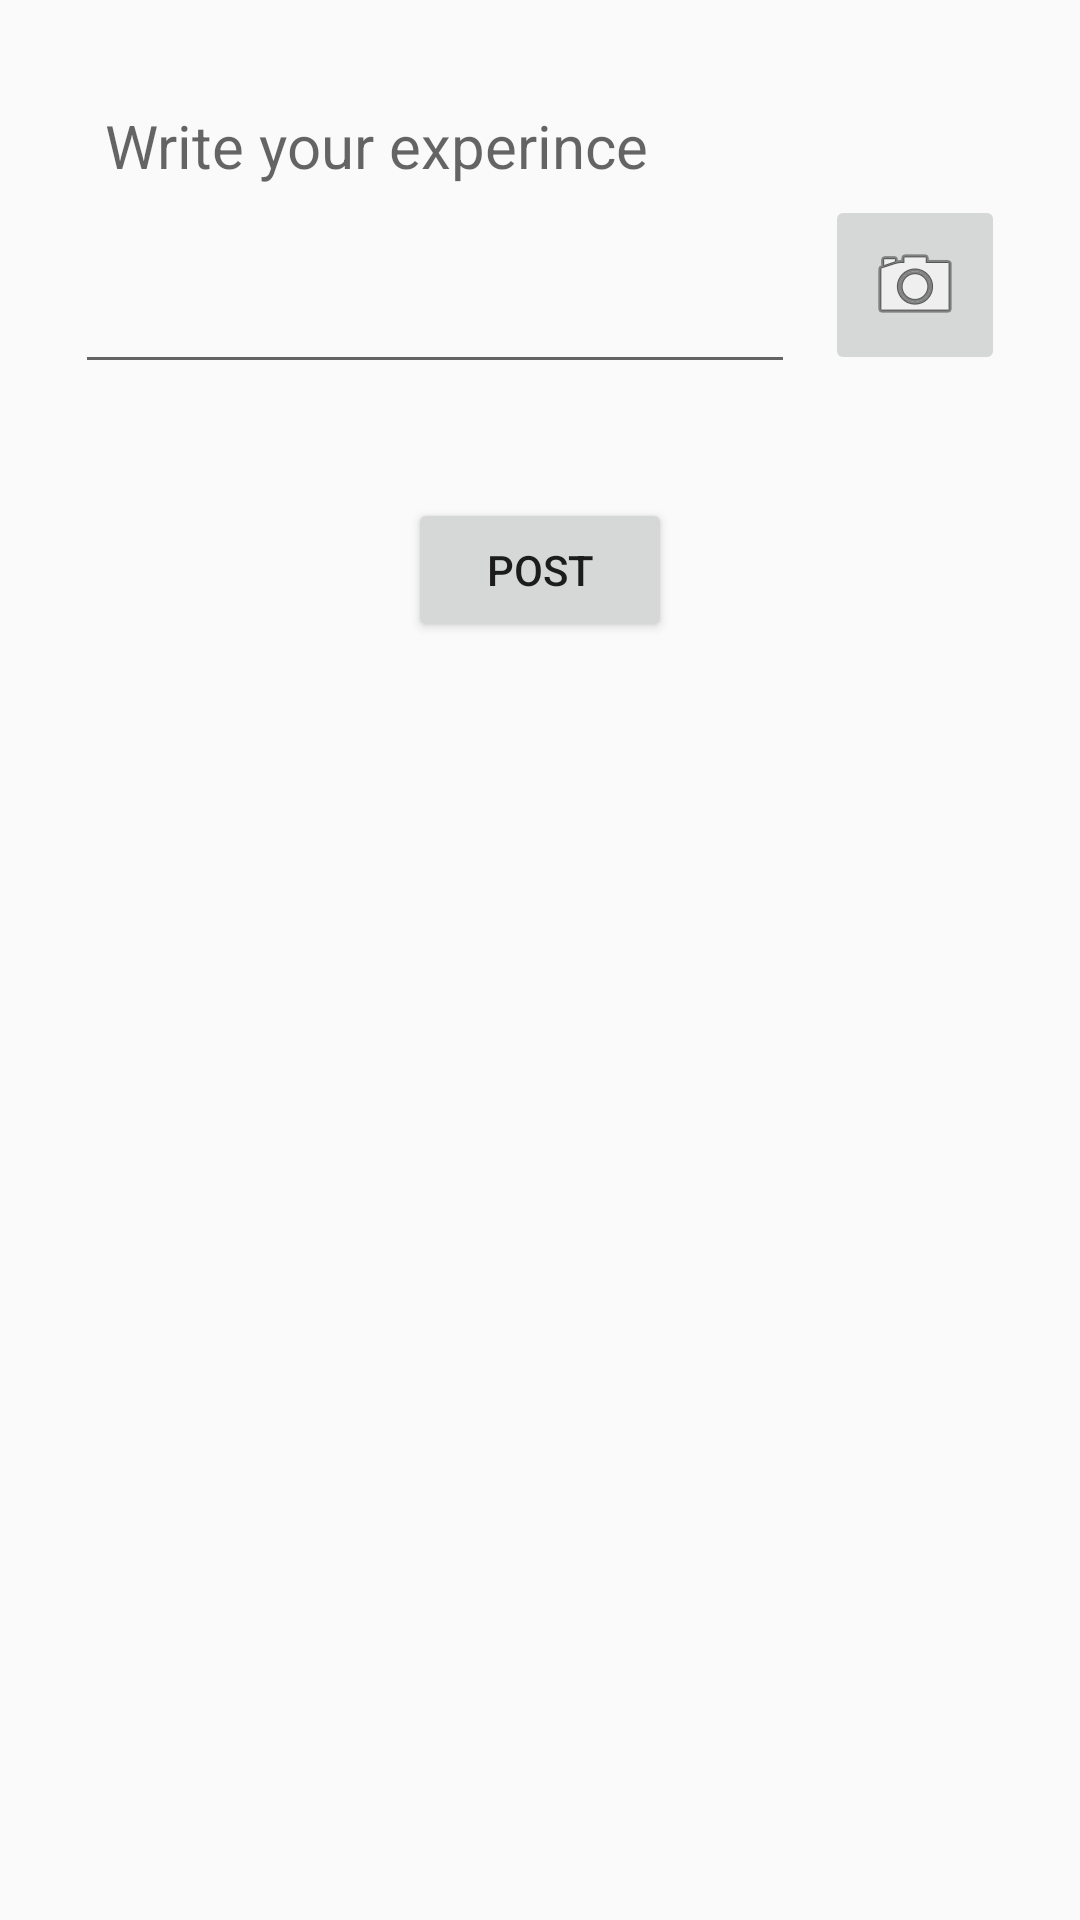

Locate icon controls on the screen. Image size 1080x1920, boxes as (x1, y1, x2, y2).
camera: (837, 213, 993, 357)
